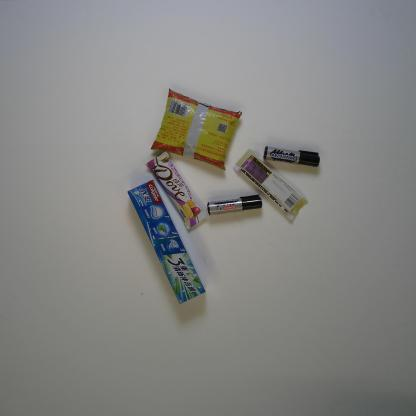Chocolate: (232, 149, 308, 222), (145, 150, 209, 230)
Personal Hygiene: (126, 178, 207, 306)
Seasoner: (150, 88, 242, 172)
Stationery: (263, 145, 320, 168), (206, 193, 263, 216)
